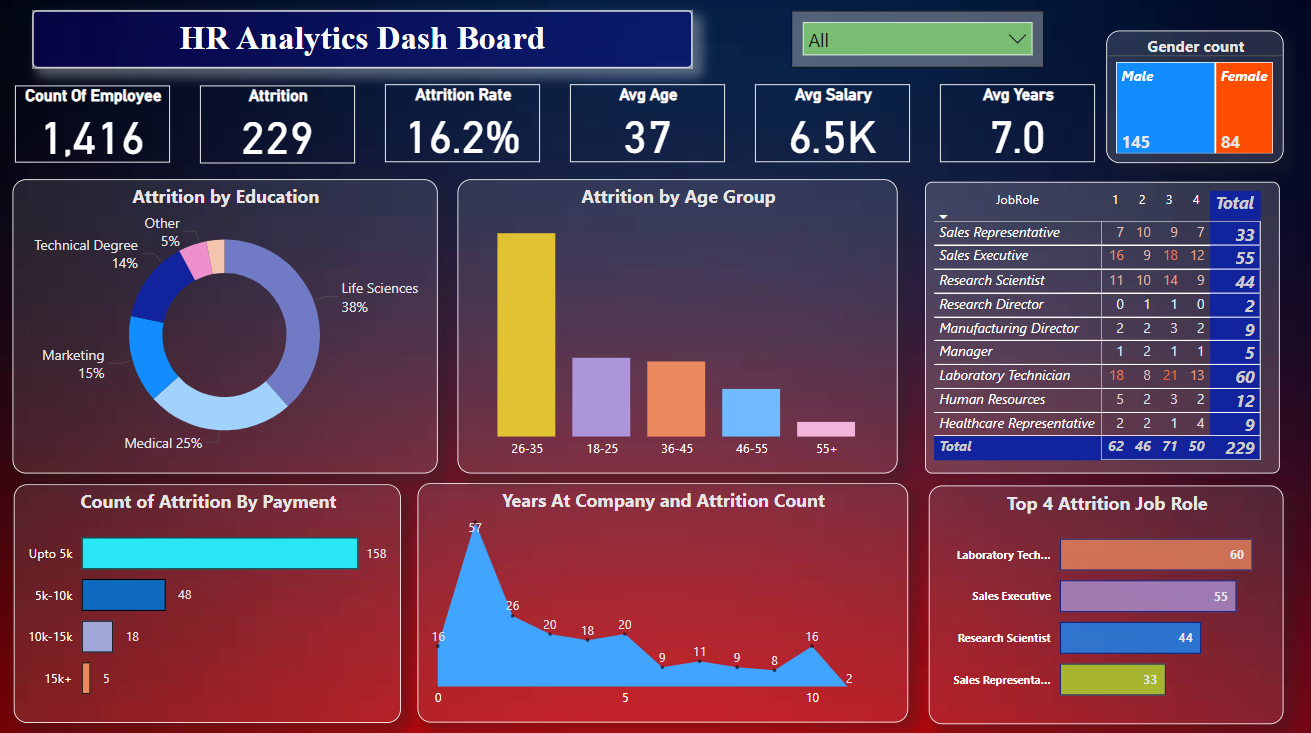

Layout of this report page (visuals, bound fields, positions):
{"tool":"powerbi","page":{"name":"Page 1","canvas":[1280,720],"ordinal":0},"visuals":[{"type":"card","title":"Count Of Employee","fields":{"Values":["CountNonNull(HR_Analytics.EmpID)"]},"box":[19.3,88.8,149.6,74.8],"z":0,"group":"g1"},{"type":"clusteredBarChart","title":"Count of Attrition By Payment","fields":{"Category":["HR_Analytics.SalarySlab"],"Y":["Sum(HR_Analytics.attrition_count)"]},"box":[18.1,474.1,374,230.4],"z":0},{"type":"card","title":"Attrition ","fields":{"Values":["Sum(HR_Analytics.attrition_count)"]},"box":[197.7,88.7,149.5,75.5],"z":1000,"group":"g1"},{"type":"barChart","title":"Top 4 Attrition Job Role  ","fields":{"Category":["HR_Analytics.JobRole"],"Y":["Sum(HR_Analytics.attrition_count)"]},"box":[901.2,475.3,342.6,230.4],"z":1000},{"type":"card","title":"Attrition Rate","fields":{"Values":["HR_Analytics.Attrition_rate"]},"box":[376,88.1,149.7,75.5],"z":2000,"group":"g1"},{"type":"areaChart","title":" Years At Company and Attrition Count","fields":{"Category":["HR_Analytics.YearsAtCompany"],"Y":["Sum(HR_Analytics.attrition_count)"]},"box":[408.3,473.3,473.3,230.8],"z":2000},{"type":"treemap","title":"Gender count ","fields":{"Group":["HR_Analytics.Gender"],"Values":["Sum(HR_Analytics.attrition_count)"]},"box":[1072.5,36.2,171.3,127.9],"z":3000},{"type":"card","title":"Avg Years","fields":{"Values":["Avg(HR_Analytics.YearsAtCompany)"]},"box":[911.6,88.6,149.7,75.5],"z":3000,"group":"g1"},{"type":"group","id":"g1","title":"Group 1","box":[19.3,88.1,1041.2,76],"z":4000},{"type":"card","title":"Avg Salary","fields":{"Values":["Avg(HR_Analytics.MonthlyIncome)"]},"box":[733.1,88.4,149.7,75.5],"z":4000,"group":"g1"},{"type":"card","title":"Avg Age","fields":{"Values":["Avg(HR_Analytics.Age)"]},"box":[554.5,88.3,149.7,75.5],"z":5000,"group":"g1"},{"type":"group","id":"g2","title":"Group 2","box":[16.8,180,1222.8,283.8],"z":5000},{"type":"textbox","box":[36.2,16.9,637,55.5],"z":6000},{"type":"donutChart","title":"Attrition by Education ","fields":{"Category":["HR_Analytics.EducationField"],"Y":["Sum(HR_Analytics.attrition_count)"]},"box":[16.8,180,410,283.8],"z":6000,"group":"g2"},{"type":"slicer","fields":{"Values":["HR_Analytics.Department"]},"box":[768.5,16.9,243.7,55.5],"z":6001},{"type":"columnChart","title":"Attrition by Age Group","fields":{"Category":["HR_Analytics.AgeGroup"],"Y":["Sum(HR_Analytics.attrition_count)"]},"box":[445.8,180,425,283.8],"z":7000,"group":"g2"},{"type":"pivotTable","fields":{"Rows":["HR_Analytics.JobRole"],"Columns":["HR_Analytics.JobSatisfaction"],"Values":["Sum(HR_Analytics.attrition_count)"]},"box":[897.1,182.5,342.5,281.2],"z":8000,"group":"g2"}]}

Visuals, with their boxes in screenshot pixels (x1, y1, x2, y2), scaled from the page's 1280x720 canvas onto the 1311x733 screenshot:
"Count Of Employee" card: bbox=(20, 90, 173, 167)
"Count of Attrition By Payment" clusteredBarChart: bbox=(19, 483, 402, 717)
"Attrition " card: bbox=(202, 90, 356, 167)
"Top 4 Attrition Job Role  " barChart: bbox=(923, 484, 1274, 718)
"Attrition Rate" card: bbox=(385, 90, 538, 167)
" Years At Company and Attrition Count" areaChart: bbox=(418, 482, 903, 717)
"Gender count " treemap: bbox=(1098, 37, 1274, 167)
"Avg Years" card: bbox=(934, 90, 1087, 167)
"Group 1" group: bbox=(20, 90, 1086, 167)
"Avg Salary" card: bbox=(751, 90, 904, 167)
"Avg Age" card: bbox=(568, 90, 721, 167)
"Group 2" group: bbox=(17, 183, 1270, 472)
textbox: bbox=(37, 17, 690, 74)
"Attrition by Education " donutChart: bbox=(17, 183, 437, 472)
slicer - HR_Analytics.Department: bbox=(787, 17, 1037, 74)
"Attrition by Age Group" columnChart: bbox=(457, 183, 892, 472)
pivotTable - HR_Analytics.JobRole x HR_Analytics.JobSatisfaction: bbox=(919, 186, 1270, 472)
